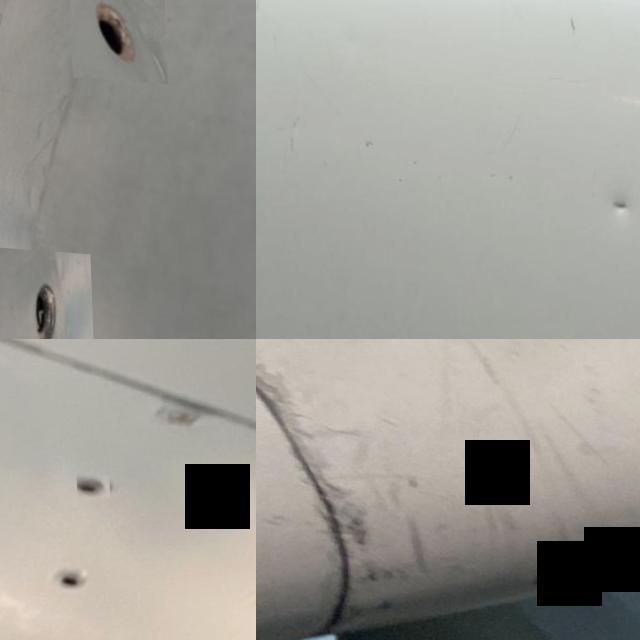Dent: (610, 187, 627, 207)
Missing_Fastener: (0, 243, 90, 339), (67, 0, 166, 78), (46, 565, 99, 596), (74, 470, 108, 496)
